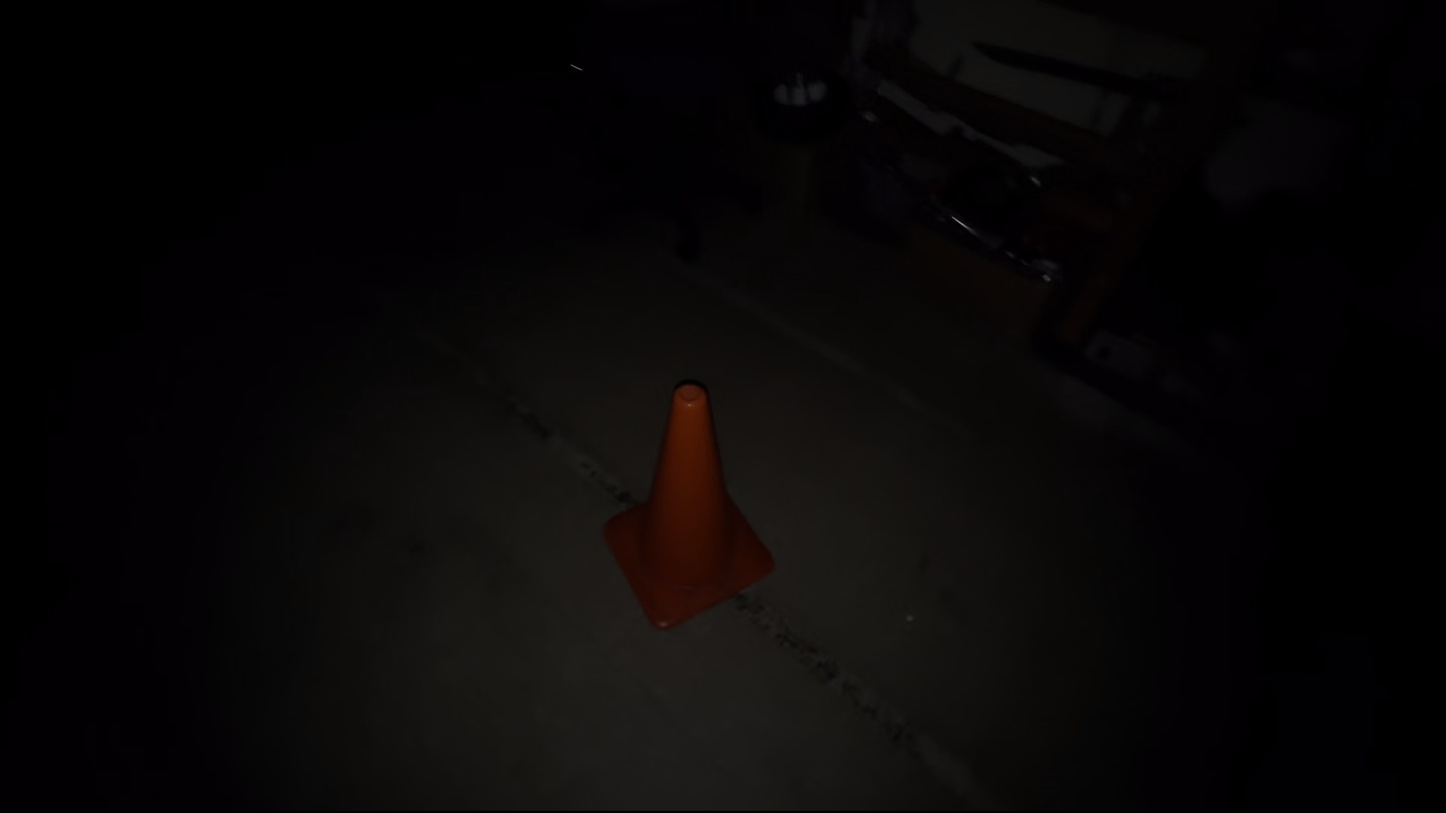traffic_cone: (601, 379, 777, 631)
